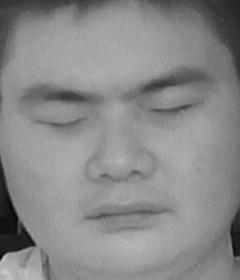blink: (33, 105, 88, 137), (151, 91, 200, 122)
mouth: (83, 195, 167, 240)
